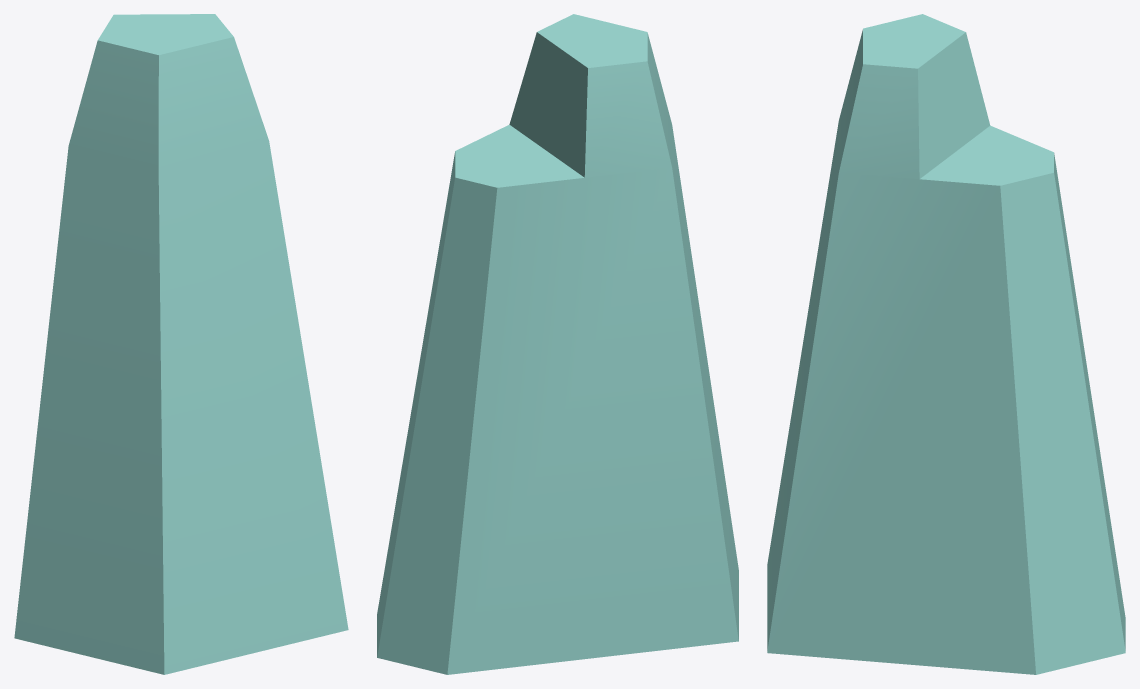
Rendered from rock_tall3.fbx.
3 renders of one model, left to right at view 1: azimuth 30°, elevation 25°; view 2: azimuth 150°, elevation 25°; view 3: azimuth 270°, elevation 25°, orthographic. The views are drawn at different scales.
Visible parts, largest first — view 1: rock_tall3; view 2: rock_tall3; view 3: rock_tall3.
Boxes of the visible parts, x1,y1,x2,y2 form: rock_tall3: (14,14,348,674); rock_tall3: (377,14,738,674); rock_tall3: (767,14,1125,674).
Size of the model in its own units: 131 by 235 by 137.
